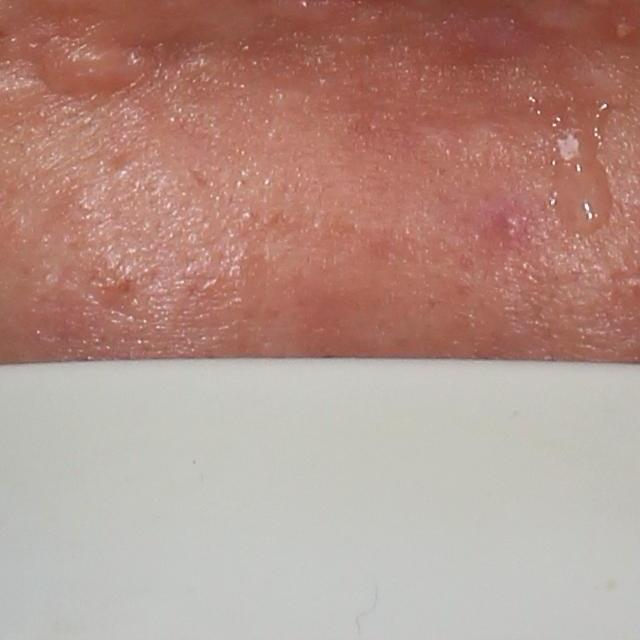hypertrophic_scar: (32, 35, 147, 97), (568, 58, 635, 112), (523, 0, 601, 42)
papule: (491, 208, 529, 248)
